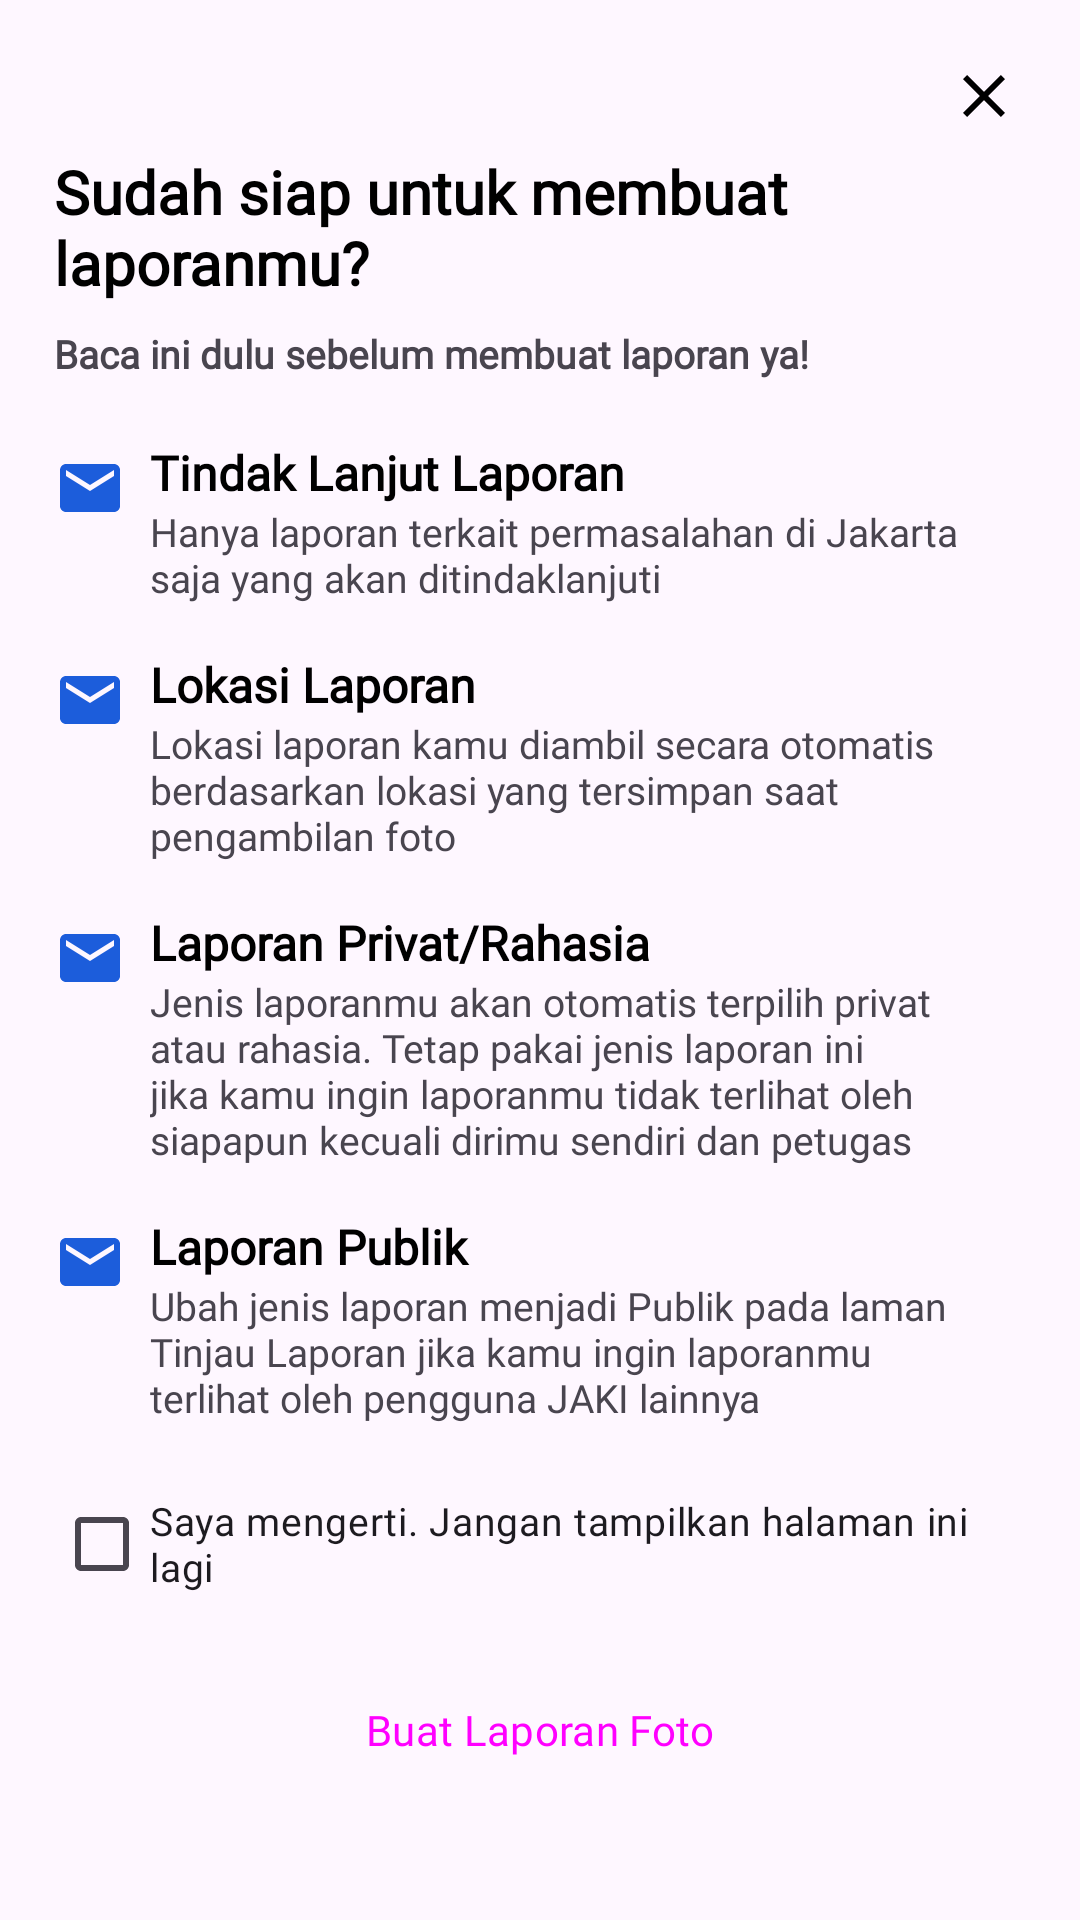

Locate icon controls on the screen. Image size 1080×1920, boxes as {"x1": x1, "y1": y1, "x2": x2, "y2": y2}.
email: {"x1": 60, "y1": 464, "x2": 120, "y2": 512}, {"x1": 60, "y1": 676, "x2": 120, "y2": 724}, {"x1": 60, "y1": 934, "x2": 120, "y2": 982}, {"x1": 60, "y1": 1238, "x2": 120, "y2": 1286}
Tutup: {"x1": 963, "y1": 75, "x2": 1005, "y2": 117}
